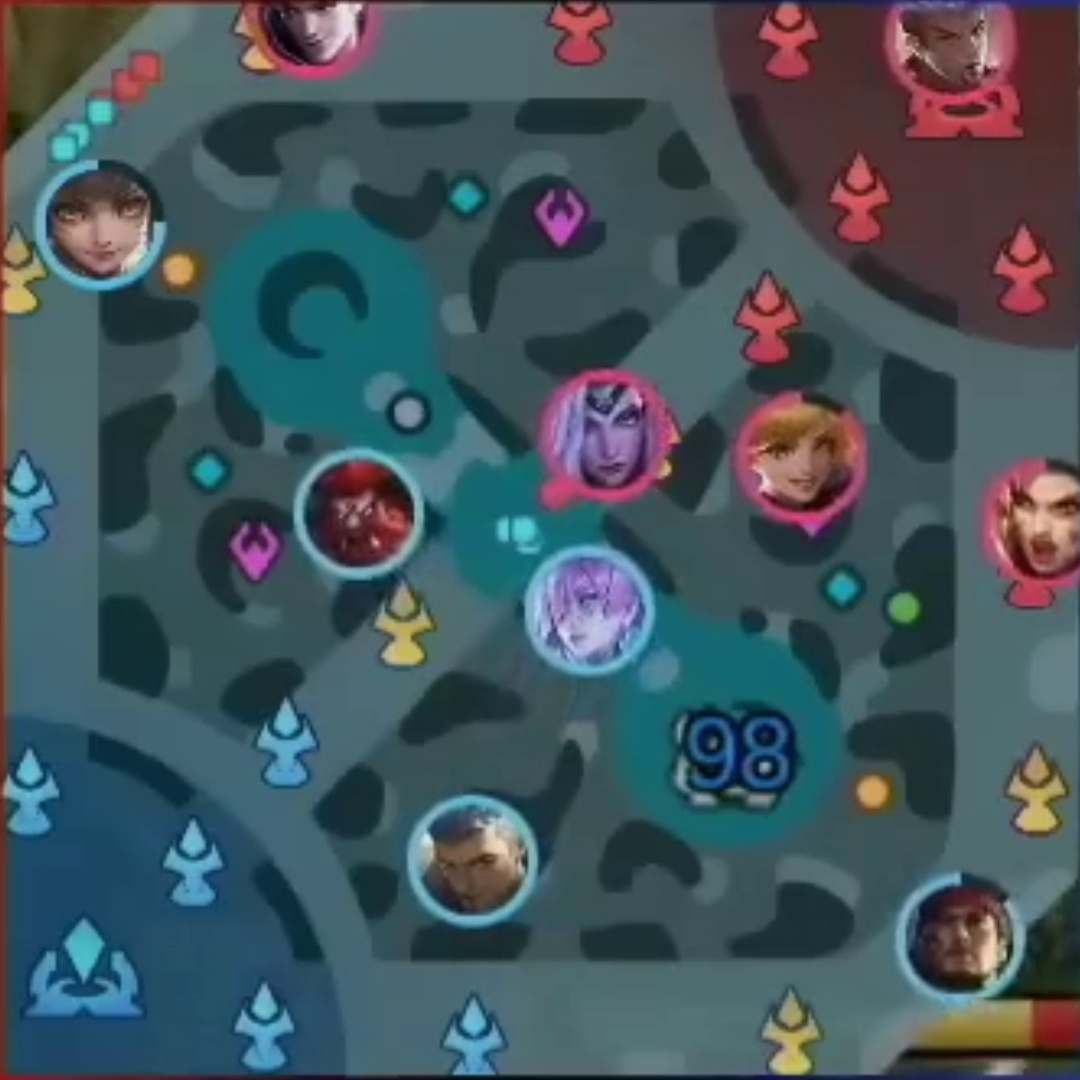Chou: (912, 4, 993, 87)
Claude: (55, 181, 155, 271), (273, 3, 357, 60)
Fanny: (765, 414, 840, 509)
Fredrinn: (429, 817, 515, 907)
Lapu-Lapu: (929, 893, 999, 985)
Masha: (1015, 475, 1076, 571)
Minotaur: (318, 477, 401, 557)
Novaria: (547, 565, 629, 657)
Valentina: (562, 387, 654, 485)
